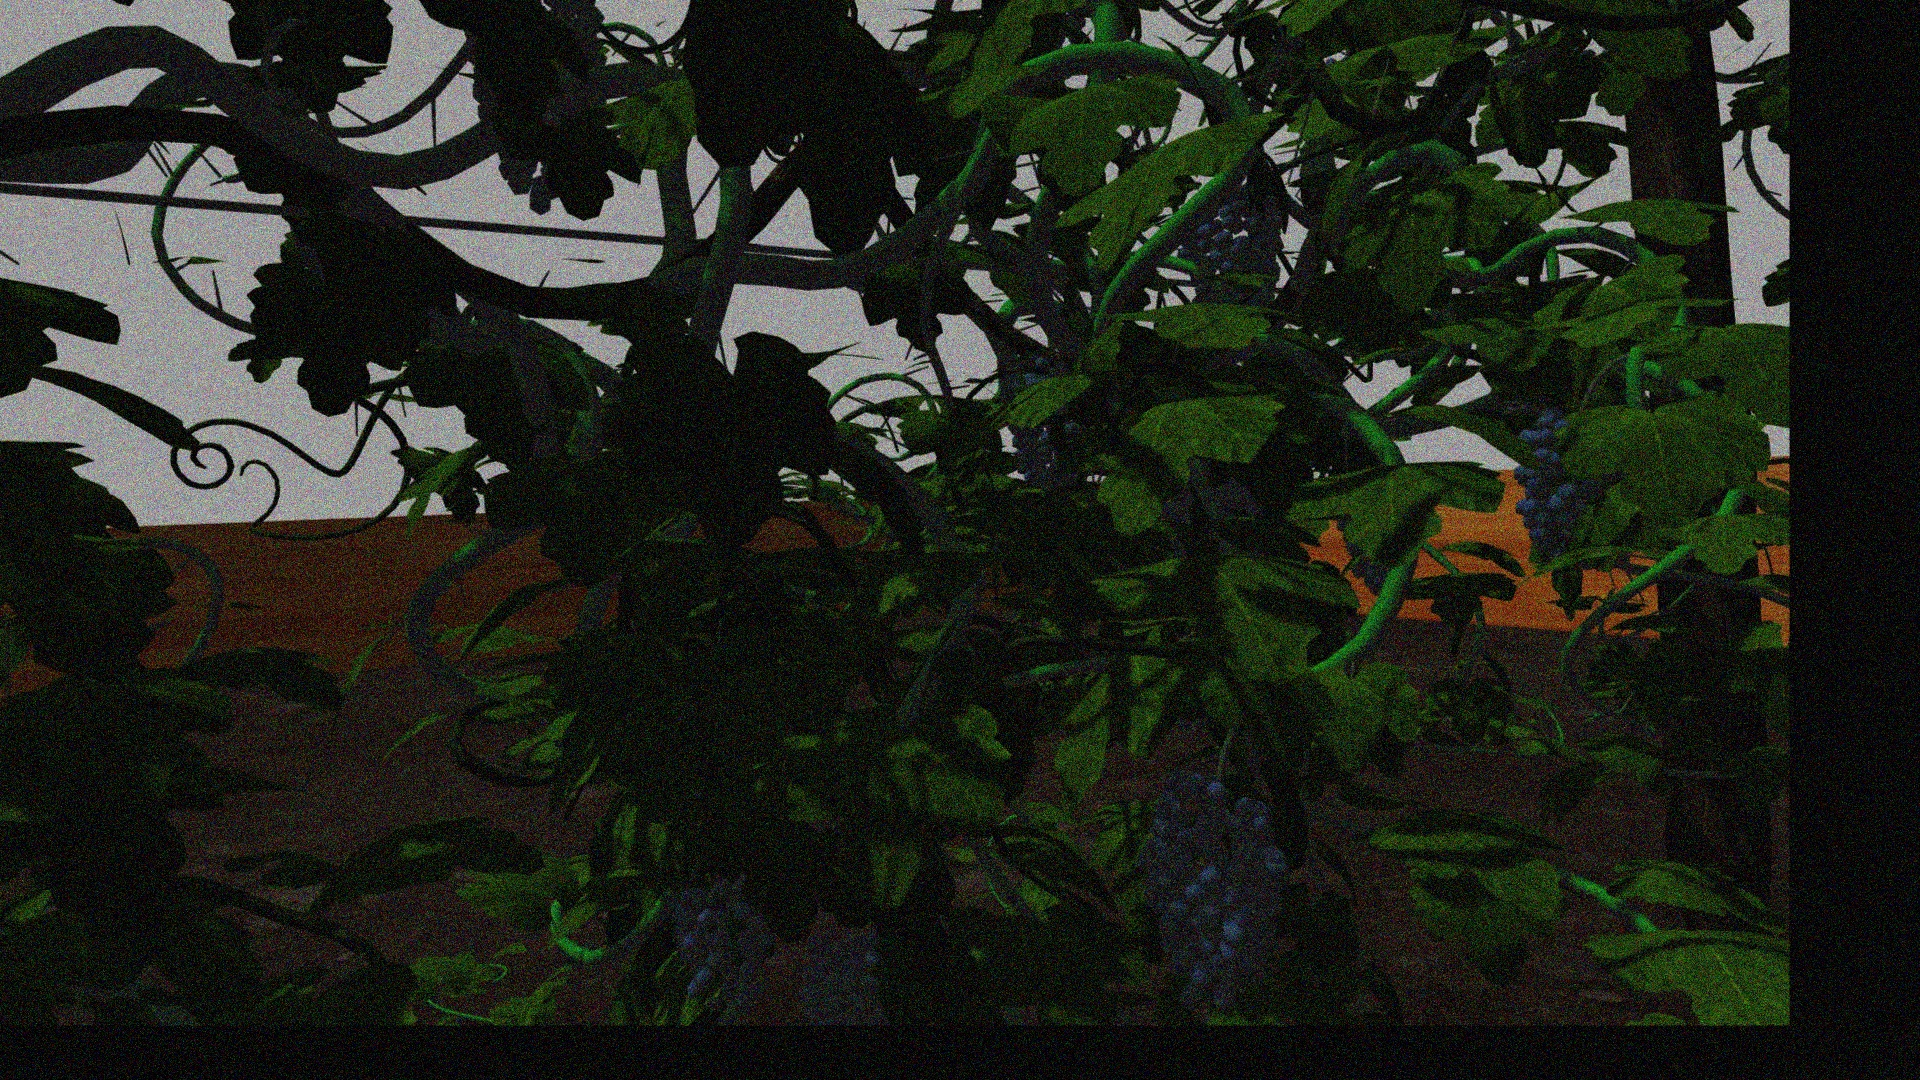grape: (1143, 769, 1288, 1009), (1513, 405, 1602, 566), (1180, 189, 1286, 309), (671, 865, 766, 997), (785, 918, 880, 1014)
